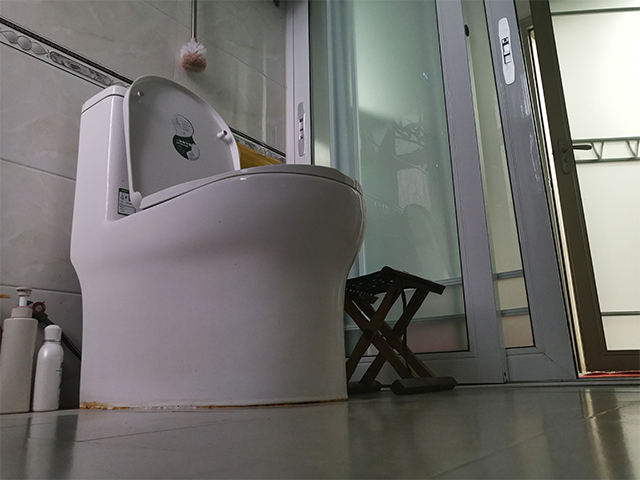carpet: (577, 369, 640, 380)
closestool: (68, 75, 365, 410)
stool: (344, 266, 457, 397)
